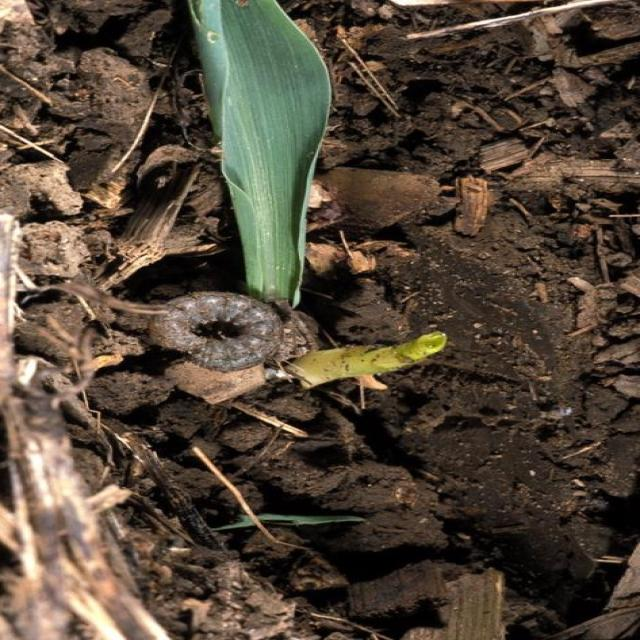black cutworm: (150, 290, 290, 375)
